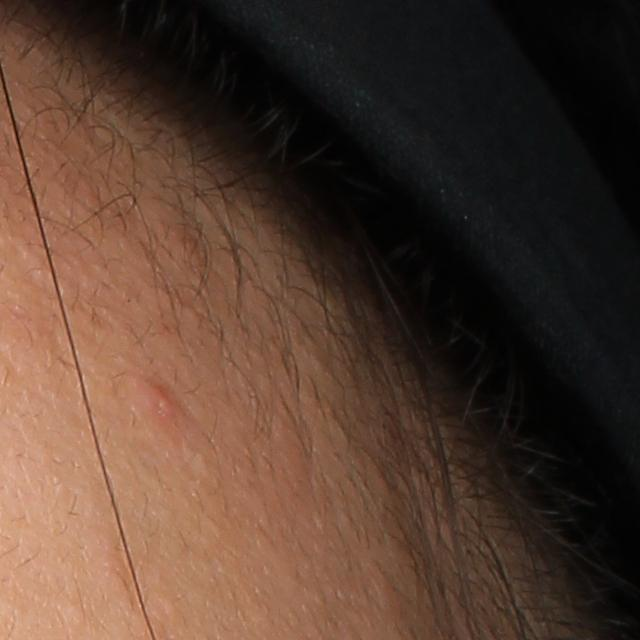papule: (144, 380, 179, 427)
